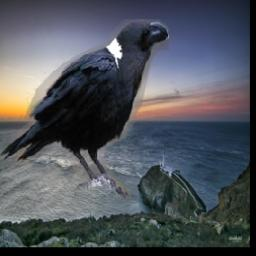Crow: (0, 20, 169, 200)
